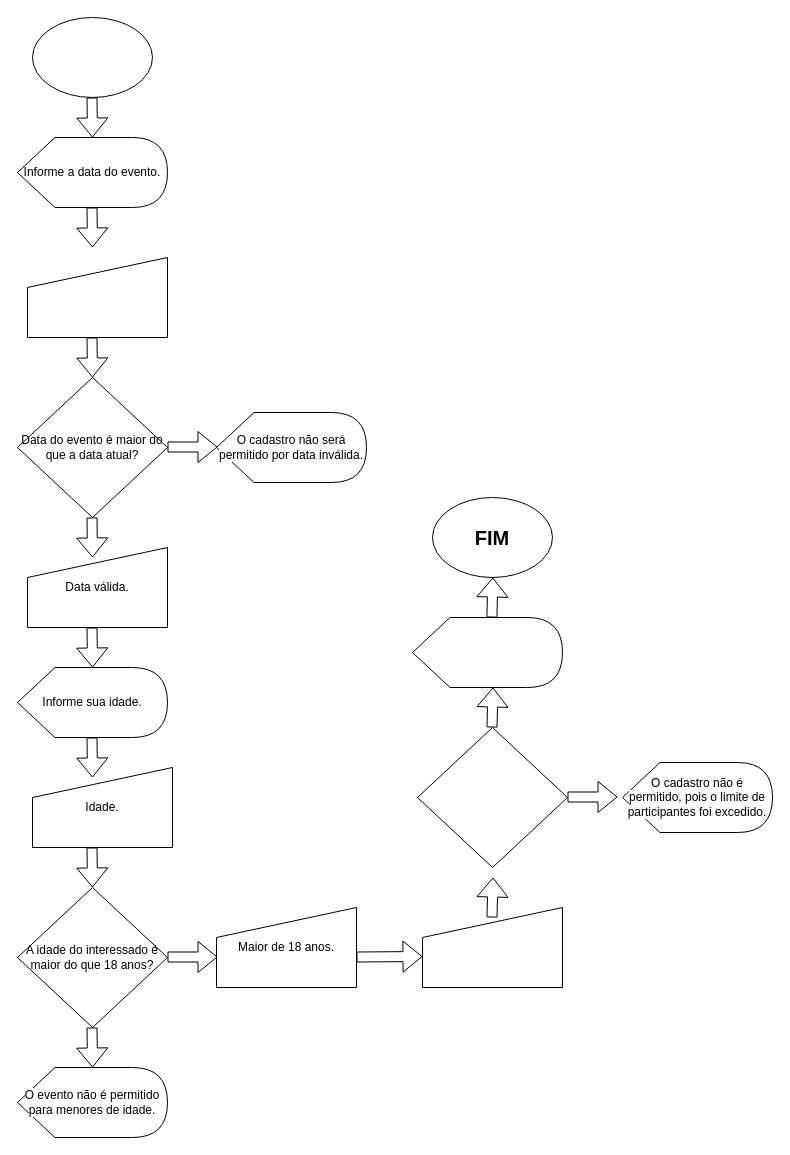
Some shapes in this 790 by 1155 pixel diagram are drawn without their labels. The shapes that lost their labels are listed below. From the top down, each one's box as (x1, y1, x2, y2) in pixels, then its label:
(32, 16, 152, 98): INÍCIO
(26, 256, 168, 338): Data do evento.
(412, 616, 562, 688): Cadastrado.
(416, 726, 568, 868): n é menor do que 100?
(422, 906, 562, 988): Lista de Participantes (n).
